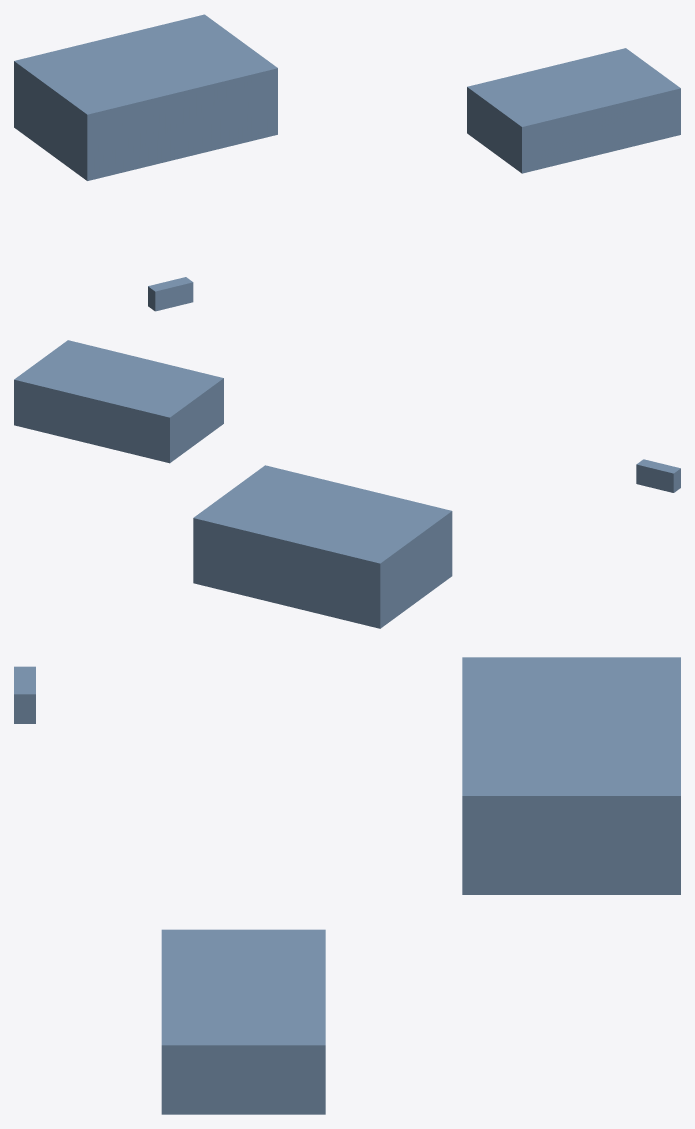
Rendered from site.gltf.
The picture shows the model from 3 angles, top to bottom: view 1: azimuth 30°, elevation 25°; view 2: azimuth 150°, elevation 25°; view 3: azimuth 270°, elevation 25°; orthographic projection. The views are drawn at different scales.
Visible parts, largest first — view 1: 1号楼, 2号楼, 东门门架; view 2: 1号楼, 2号楼, 东门门架; view 3: 1号楼, 2号楼, 东门门架.
Part boxes in pixels (<box>): 1号楼: <box>14,14,277,180</box>; 2号楼: <box>467,48,680,173</box>; 东门门架: <box>148,277,193,311</box>; 1号楼: <box>193,465,452,628</box>; 2号楼: <box>14,340,223,463</box>; 东门门架: <box>636,459,680,492</box>; 1号楼: <box>462,657,680,894</box>; 2号楼: <box>161,929,325,1114</box>; 东门门架: <box>14,666,35,723</box>.
Size of the model in its own units: 181 by 20 by 122.
